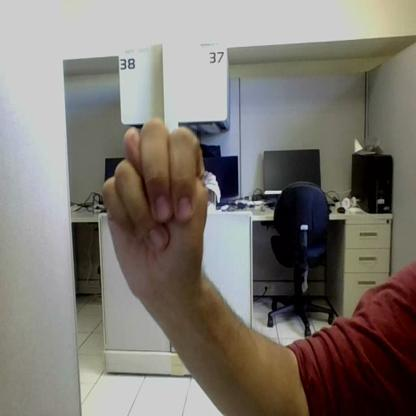N: (105, 120, 206, 282)
